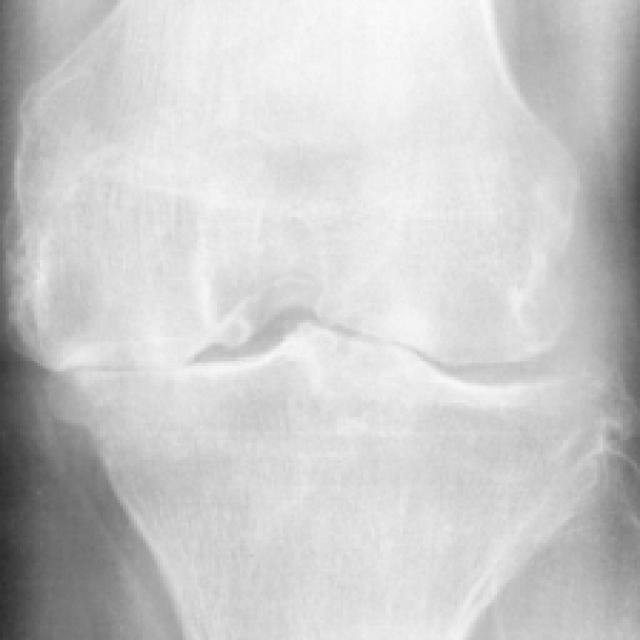femur: (5, 1, 579, 370)
tibia: (37, 323, 617, 640)
